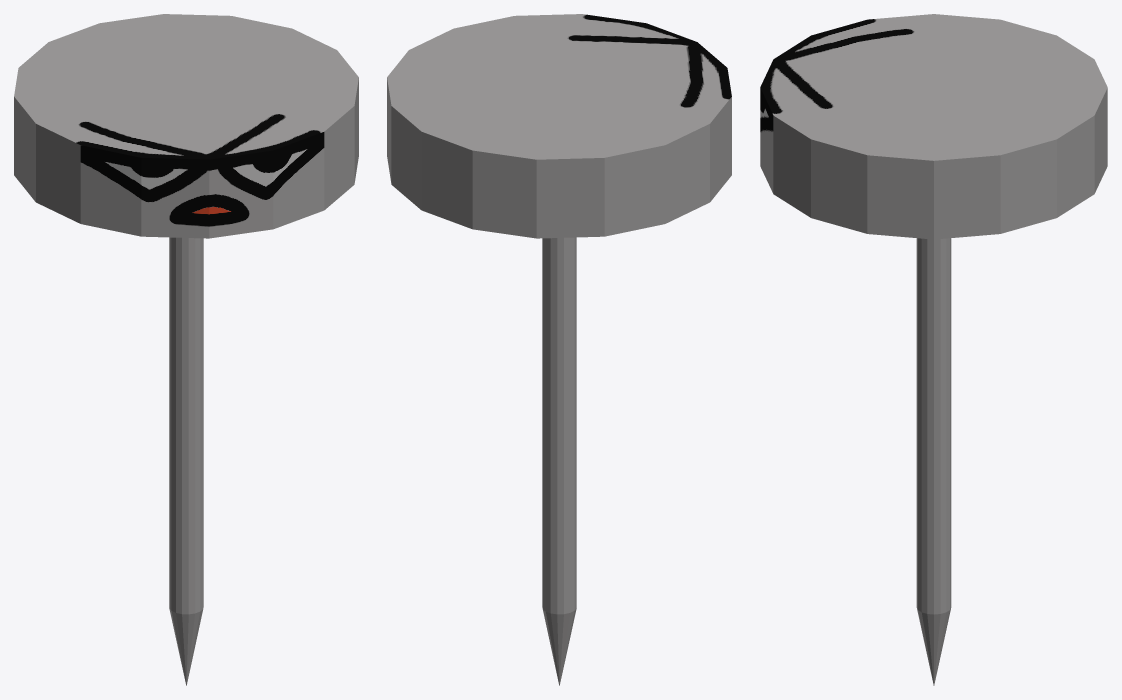
The model's file is nail.fbx.
The picture shows the model from 3 angles, left to right: view 1: azimuth 30°, elevation 25°; view 2: azimuth 150°, elevation 25°; view 3: azimuth 270°, elevation 25°; orthographic projection.
Parts seen in each view (by area): view 1: Cylinder; view 2: Cylinder; view 3: Cylinder.
Part boxes in pixels (<box>): Cylinder: <box>14,14,358,685</box>; Cylinder: <box>387,14,731,685</box>; Cylinder: <box>760,14,1107,685</box>.
Bounding box in the file's own units: 200 × 380 × 200.
1 material, 1 textured.
